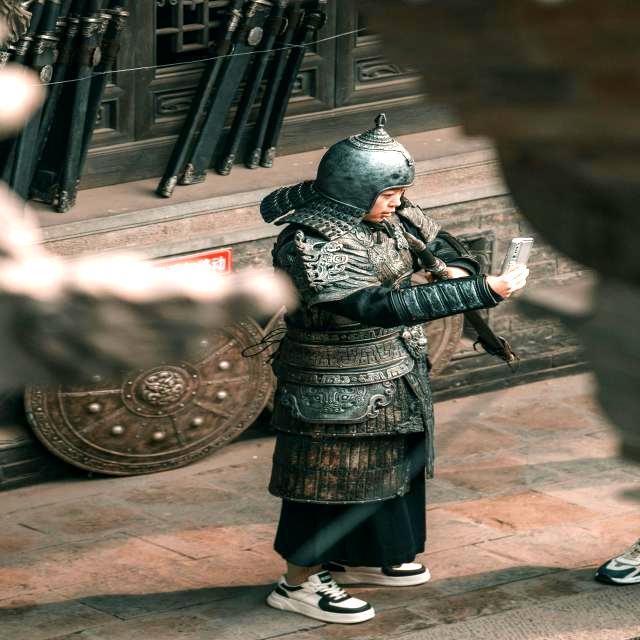no_hard_hat: (260, 113, 414, 239)
person: (260, 114, 528, 624)
